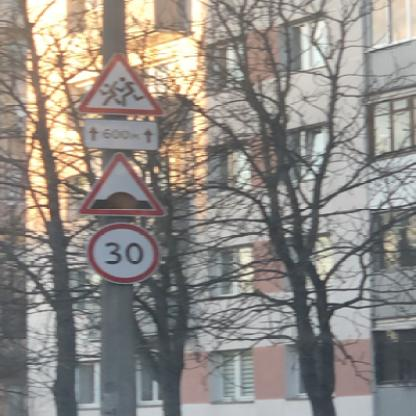Speed Limit 30: (88, 221, 161, 285)
